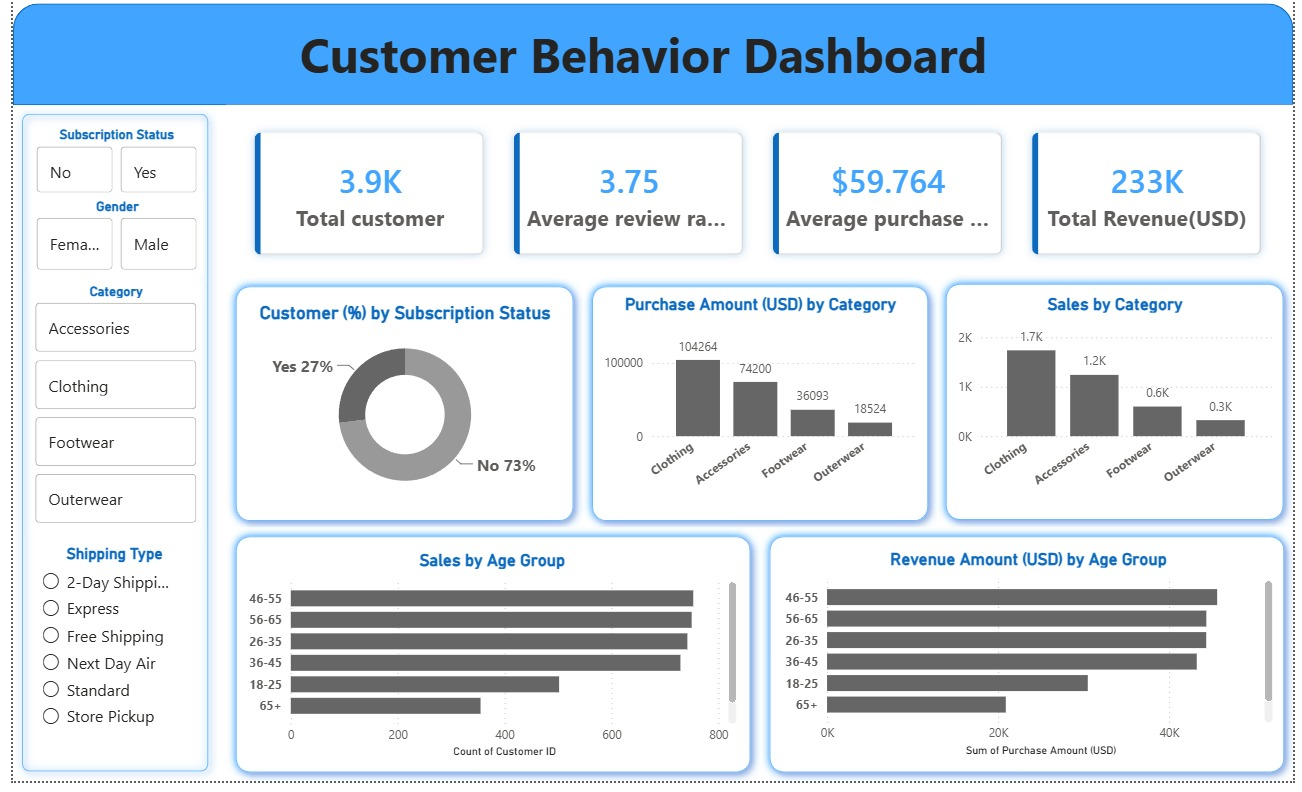

Layout of this report page (visuals, bound fields, positions):
{"tool":"powerbi","page":{"name":"Page 1","canvas":[1280,820],"ordinal":0},"visuals":[{"type":"shape","box":[0,42.6,1280.2,101.7],"z":0},{"type":"cardVisual","fields":{"Data":["cleaned_customer_shopping_behavior.Number of customer","cleaned_customer_shopping_behavior.Average of review rating","cleaned_customer_shopping_behavior.Average purchase amount","Sum(cleaned_customer_shopping_behavior.Purchase Amount (USD))"]},"box":[214.3,144.3,1065.7,178.6],"z":1000},{"type":"textbox","box":[127.7,54.4,1019,89.8],"z":2000},{"type":"shape","box":[214.3,315.7,355.7,252.9],"z":3000},{"type":"donutChart","title":"Customer (%) by Subscription Status","fields":{"Category":["cleaned_customer_shopping_behavior.Subscription Status"],"Y":["CountNonNull(cleaned_customer_shopping_behavior.Customer ID)"]},"box":[230,341.4,324.3,204.3],"z":4000},{"type":"shape","box":[570,315.7,354.3,252.9],"z":5000},{"type":"shape","box":[924.3,314.3,355.7,254.3],"z":6000},{"type":"clusteredColumnChart","title":"Purchase Amount (USD) by Category","fields":{"Y":["Sum(cleaned_customer_shopping_behavior.Purchase Amount (USD))"],"Category":["cleaned_customer_shopping_behavior.Category"]},"box":[585.7,332.9,322.9,212.9],"z":7000},{"type":"clusteredColumnChart","title":"Sales by Category","fields":{"Y":["CountNonNull(cleaned_customer_shopping_behavior.Customer ID)"],"Category":["cleaned_customer_shopping_behavior.Category"]},"box":[940,332.9,324.3,212.9],"z":8000},{"type":"shape","box":[0,144.3,204.3,675.7],"z":9000},{"type":"advancedSlicerVisual","fields":{"Values":["cleaned_customer_shopping_behavior.Subscription Status"]},"box":[18.9,166.7,170.2,70.9],"z":10000},{"type":"advancedSlicerVisual","fields":{"Values":["cleaned_customer_shopping_behavior.Gender"]},"box":[18.9,237.6,171.4,76.8],"z":11000},{"type":"advancedSlicerVisual","fields":{"Values":["cleaned_customer_shopping_behavior.Category"]},"box":[17.1,322.9,171.4,245.7],"z":12000},{"type":"listSlicer","fields":{"Values":["cleaned_customer_shopping_behavior.Shipping Type"]},"box":[24.3,584.3,155.7,198.6],"z":13000},{"type":"shape","box":[747.1,565.7,532.9,254.3],"z":15000},{"type":"clusteredBarChart","title":"Revenue  Amount (USD) by Age Group","fields":{"Y":["Sum(cleaned_customer_shopping_behavior.Purchase Amount (USD))"],"Category":["cleaned_customer_shopping_behavior.Age Group"]},"box":[765.7,587.1,498.6,212.9],"z":17000},{"type":"shape","box":[214.3,565.7,532.9,254.3],"z":17500},{"type":"clusteredBarChart","title":"Sales by Age Group","fields":{"Y":["CountNonNull(cleaned_customer_shopping_behavior.Customer ID)"],"Category":["cleaned_customer_shopping_behavior.Age Group"]},"box":[230,588.6,498.6,212.9],"z":18000}]}

Visuals, with their boxes on the page's 1280x820 design canvas (x1, y1, x2, y2). These are canvas units, not pixel positions in the 1302x792 screenshot, which may show the page scaled, cropped or inside an application window:
shape: {"x1": 0, "y1": 43, "x2": 1280, "y2": 144}
cardVisual - cleaned_customer_shopping_behavior.Number of customer x cleaned_customer_shopping_behavior.Average of review rating: {"x1": 214, "y1": 144, "x2": 1280, "y2": 323}
textbox: {"x1": 128, "y1": 54, "x2": 1147, "y2": 144}
shape: {"x1": 214, "y1": 316, "x2": 570, "y2": 569}
"Customer (%) by Subscription Status" donutChart: {"x1": 230, "y1": 341, "x2": 554, "y2": 546}
shape: {"x1": 570, "y1": 316, "x2": 924, "y2": 569}
shape: {"x1": 924, "y1": 314, "x2": 1280, "y2": 569}
"Purchase Amount (USD) by Category" clusteredColumnChart: {"x1": 586, "y1": 333, "x2": 909, "y2": 546}
"Sales by Category" clusteredColumnChart: {"x1": 940, "y1": 333, "x2": 1264, "y2": 546}
shape: {"x1": 0, "y1": 144, "x2": 204, "y2": 820}
advancedSlicerVisual - cleaned_customer_shopping_behavior.Subscription Status: {"x1": 19, "y1": 167, "x2": 189, "y2": 238}
advancedSlicerVisual - cleaned_customer_shopping_behavior.Gender: {"x1": 19, "y1": 238, "x2": 190, "y2": 314}
advancedSlicerVisual - cleaned_customer_shopping_behavior.Category: {"x1": 17, "y1": 323, "x2": 188, "y2": 569}
listSlicer - cleaned_customer_shopping_behavior.Shipping Type: {"x1": 24, "y1": 584, "x2": 180, "y2": 783}
shape: {"x1": 747, "y1": 566, "x2": 1280, "y2": 820}
"Revenue  Amount (USD) by Age Group" clusteredBarChart: {"x1": 766, "y1": 587, "x2": 1264, "y2": 800}
shape: {"x1": 214, "y1": 566, "x2": 747, "y2": 820}
"Sales by Age Group" clusteredBarChart: {"x1": 230, "y1": 589, "x2": 729, "y2": 802}
